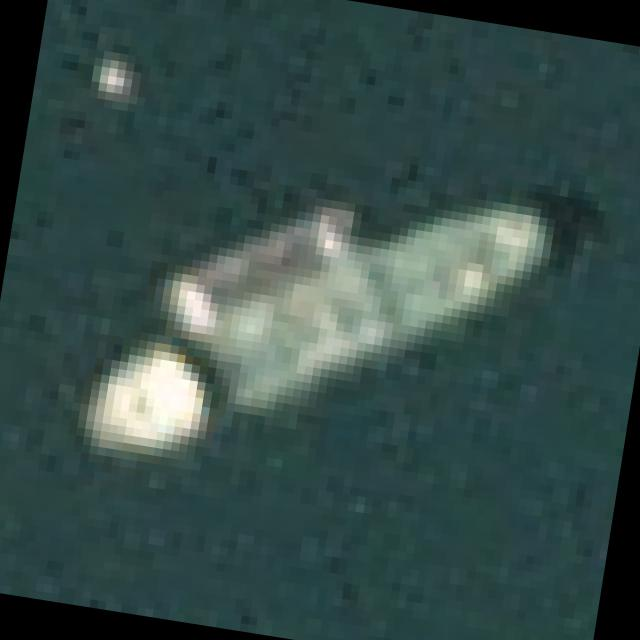ship: (64, 121, 580, 544)
